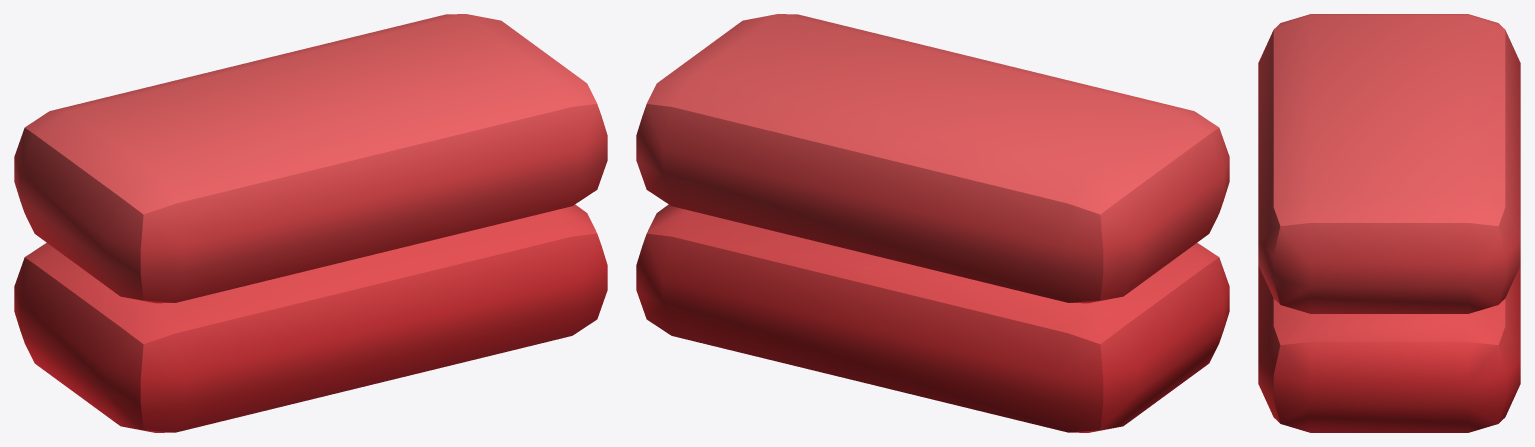
Rendered from barrier_2x1x1_red.glb.
3 views of the same model, side by side, from view 1: azimuth 30°, elevation 25°; view 2: azimuth 150°, elevation 25°; view 3: azimuth 270°, elevation 25° (orthographic). The views are drawn at different scales.
Parts seen in each view (by area): view 1: barrier_2x1x1_red; view 2: barrier_2x1x1_red; view 3: barrier_2x1x1_red.
Boxes of the visible parts, x1=… form: barrier_2x1x1_red: x1=14, y1=14, x2=607, y2=432; barrier_2x1x1_red: x1=636, y1=14, x2=1229, y2=432; barrier_2x1x1_red: x1=1258, y1=14, x2=1520, y2=432.
Bounding box in the file's own units: 2 × 1 × 1.
Materials: 1 (1 with a texture image).
